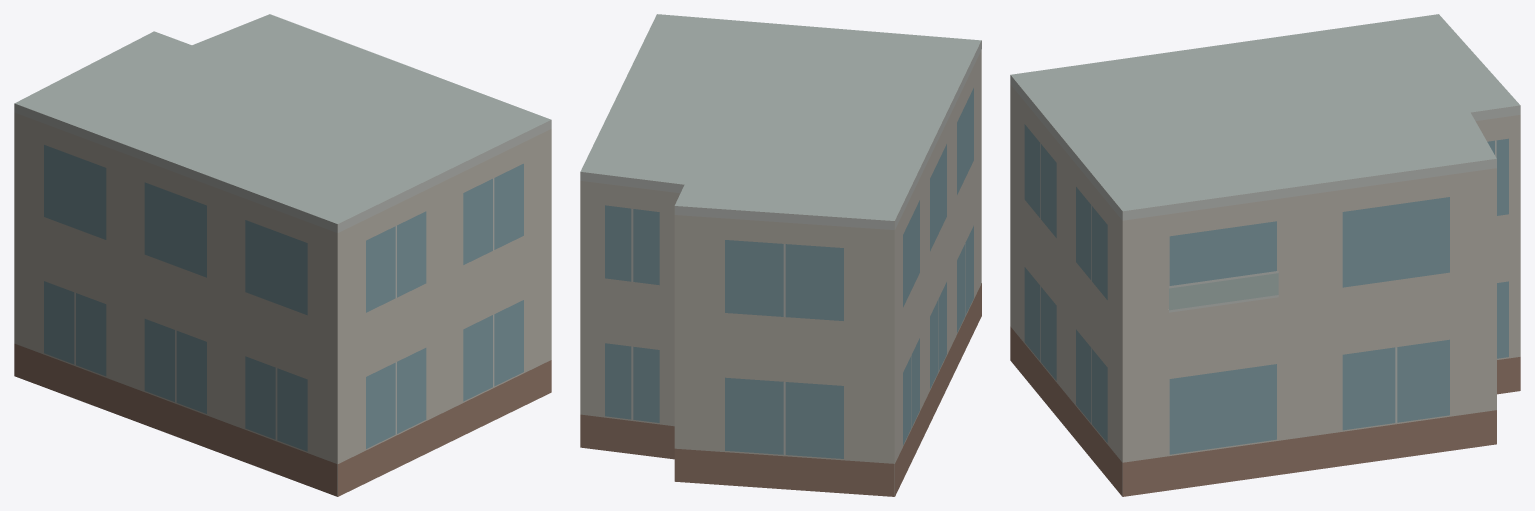
Rendered from survey-upis-33018154.glb.
3 renders of one model, left to right at view 1: azimuth 30°, elevation 25°; view 2: azimuth 150°, elevation 25°; view 3: azimuth 270°, elevation 25°, orthographic. The views are drawn at different scales.
Parts seen in each view (by area): view 1: survey-upis-33018154.tmp; view 2: survey-upis-33018154.tmp; view 3: survey-upis-33018154.tmp.
Part boxes in pixels (left/top/right/bottom): survey-upis-33018154.tmp: left=14, top=14, right=551, bottom=496; survey-upis-33018154.tmp: left=580, top=14, right=981, bottom=496; survey-upis-33018154.tmp: left=1010, top=14, right=1520, bottom=496.
Size of the model in its own units: 10.98 by 7.4 by 11.99.
